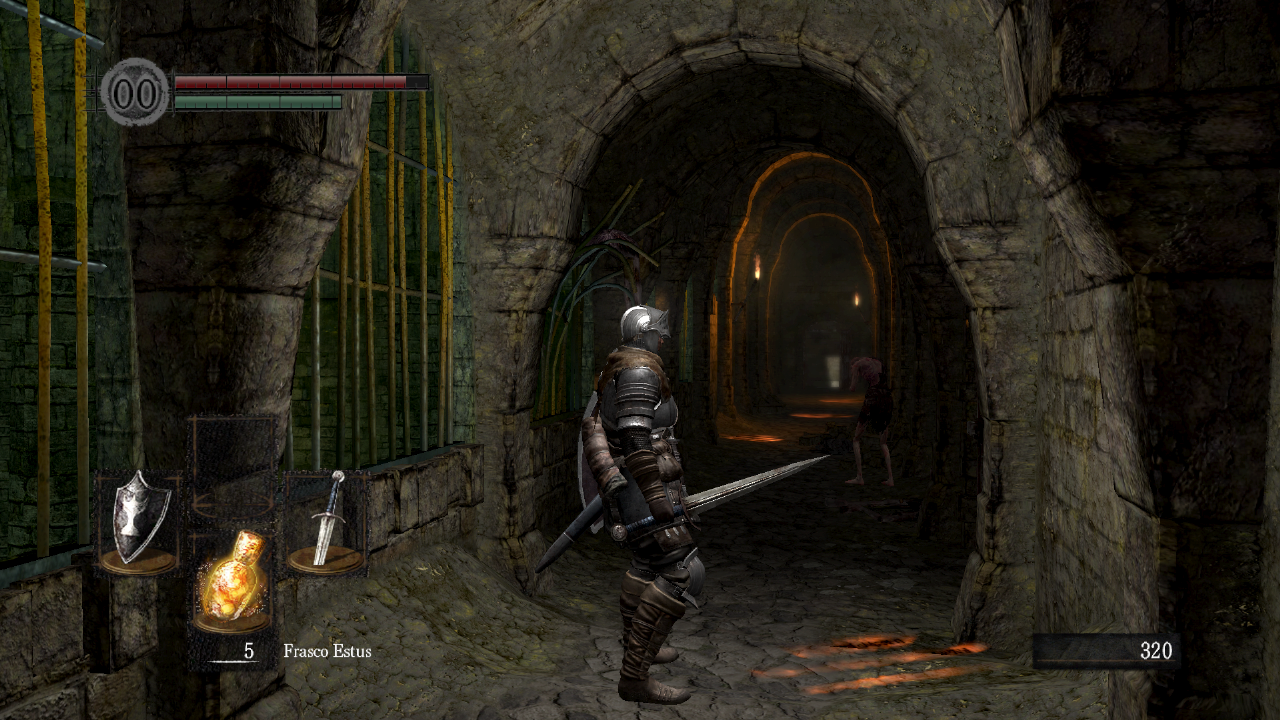hollow: (844, 356, 895, 487)
player: (535, 304, 832, 705)
